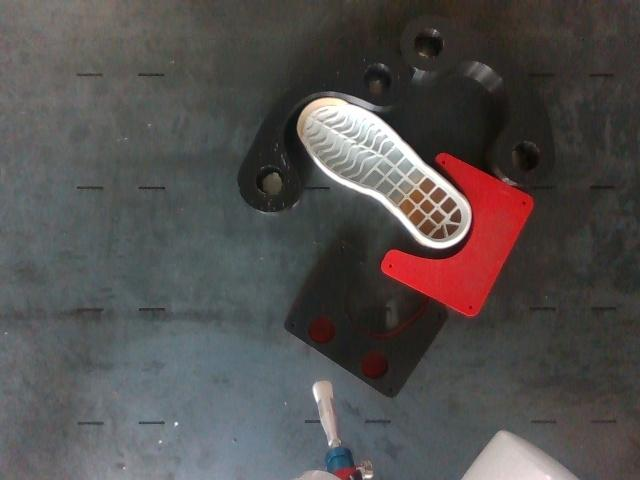shoes: (300, 99, 472, 244)
